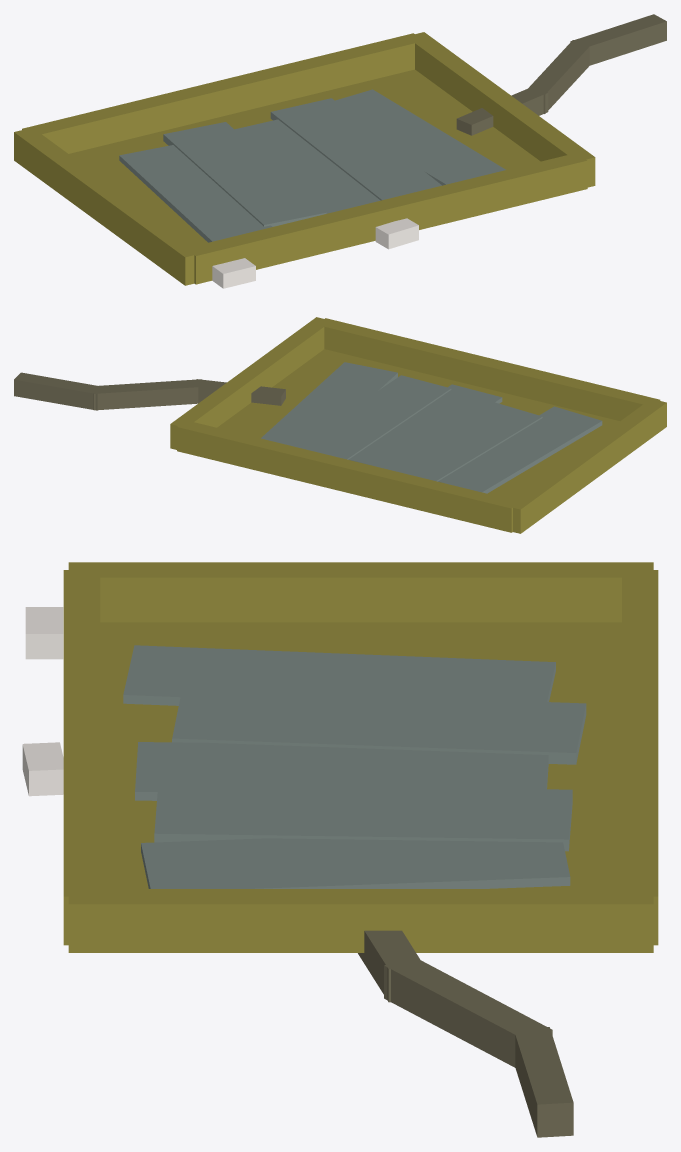
File: SM_CisternaFlexible_v2_Vacia_LOD1.fbx
3 renders of one model, top to bottom at view 1: azimuth 30°, elevation 25°; view 2: azimuth 150°, elevation 25°; view 3: azimuth 270°, elevation 25°, orthographic. The views are drawn at different scales.
Parts seen in each view (by area): view 1: SM_farp_betera_v2_LOD1; view 2: SM_farp_betera_v2_LOD1; view 3: SM_farp_betera_v2_LOD1.
Boxes of the visible parts, x1=… form: SM_farp_betera_v2_LOD1: x1=14, y1=14, x2=666, y2=288; SM_farp_betera_v2_LOD1: x1=14, y1=317, x2=666, y2=533; SM_farp_betera_v2_LOD1: x1=22, y1=562, x2=658, y2=1137.
Bounding box in the file's own units: 11.38 × 0.61 × 5.92.
